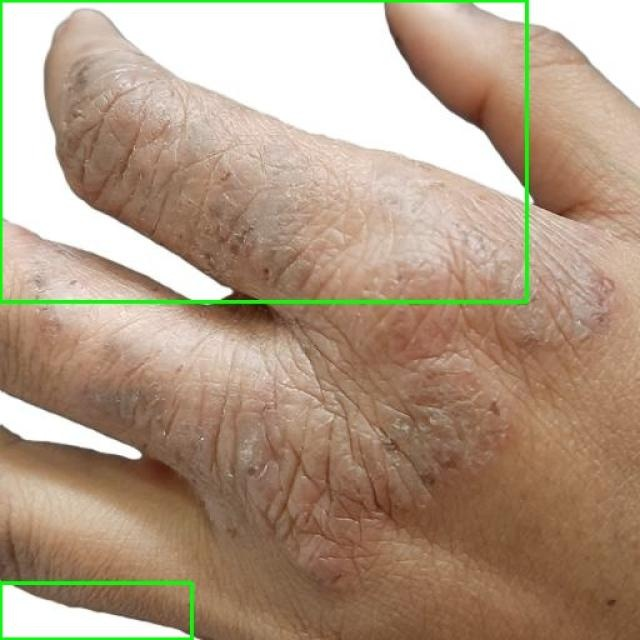Eczema: (0, 0, 526, 301), (0, 582, 191, 639)
